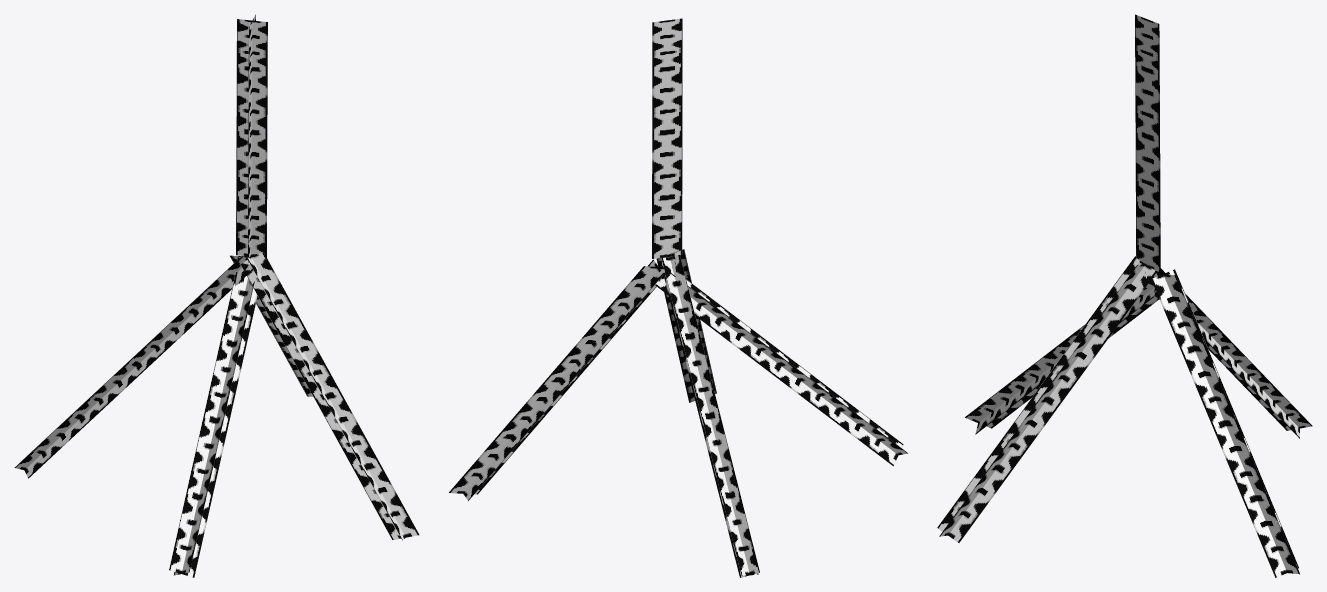
The picture shows the model from 3 angles, left to right: view 1: azimuth 30°, elevation 25°; view 2: azimuth 150°, elevation 25°; view 3: azimuth 270°, elevation 25°; orthographic projection. The views are drawn at different scales.
Visible parts, largest first — view 1: Plane08; view 2: Plane08; view 3: Plane08.
Boxes of the visible parts, left/top/right/bottom form: Plane08: left=14, top=14, right=419, bottom=577; Plane08: left=449, top=18, right=907, bottom=577; Plane08: left=937, top=14, right=1312, bottom=577.
Bounding box in the file's own units: 128 × 183 × 126.
